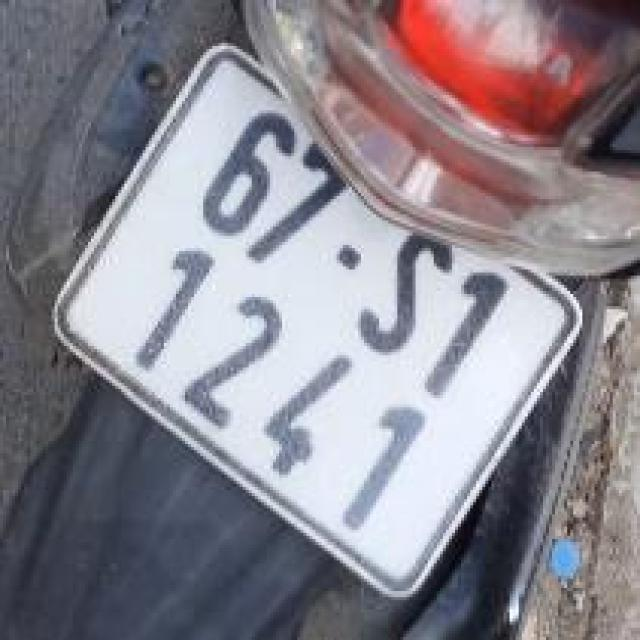1: (310, 382, 456, 570), (405, 247, 549, 416), (106, 229, 239, 391)
2: (171, 272, 301, 440)
4: (239, 333, 378, 501)
6: (183, 91, 317, 256)
7: (234, 124, 371, 279)
S: (340, 202, 466, 376)
